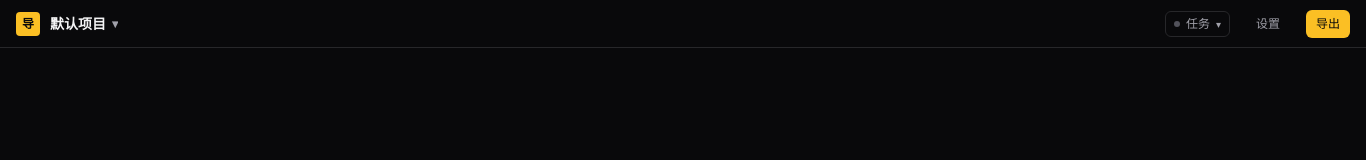
Test: top bar task dropdown › shows an empty message when no jobs are running
Click the button with test id "task-toggle" at (1197, 24), box [1165,10,1230,36]
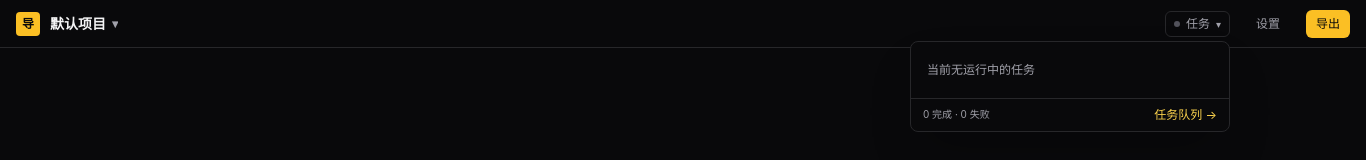
Result: the text with test id "task-empty" shows "无运行" at [927,62,1035,76]
